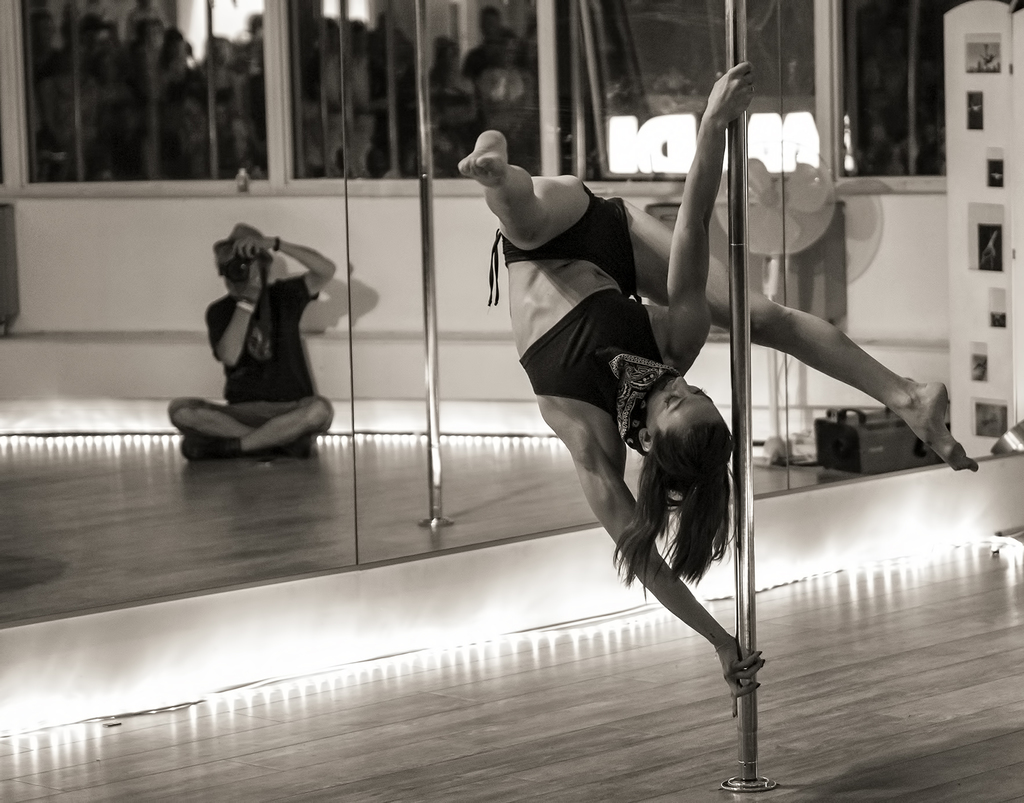person: (166, 228, 340, 461)
